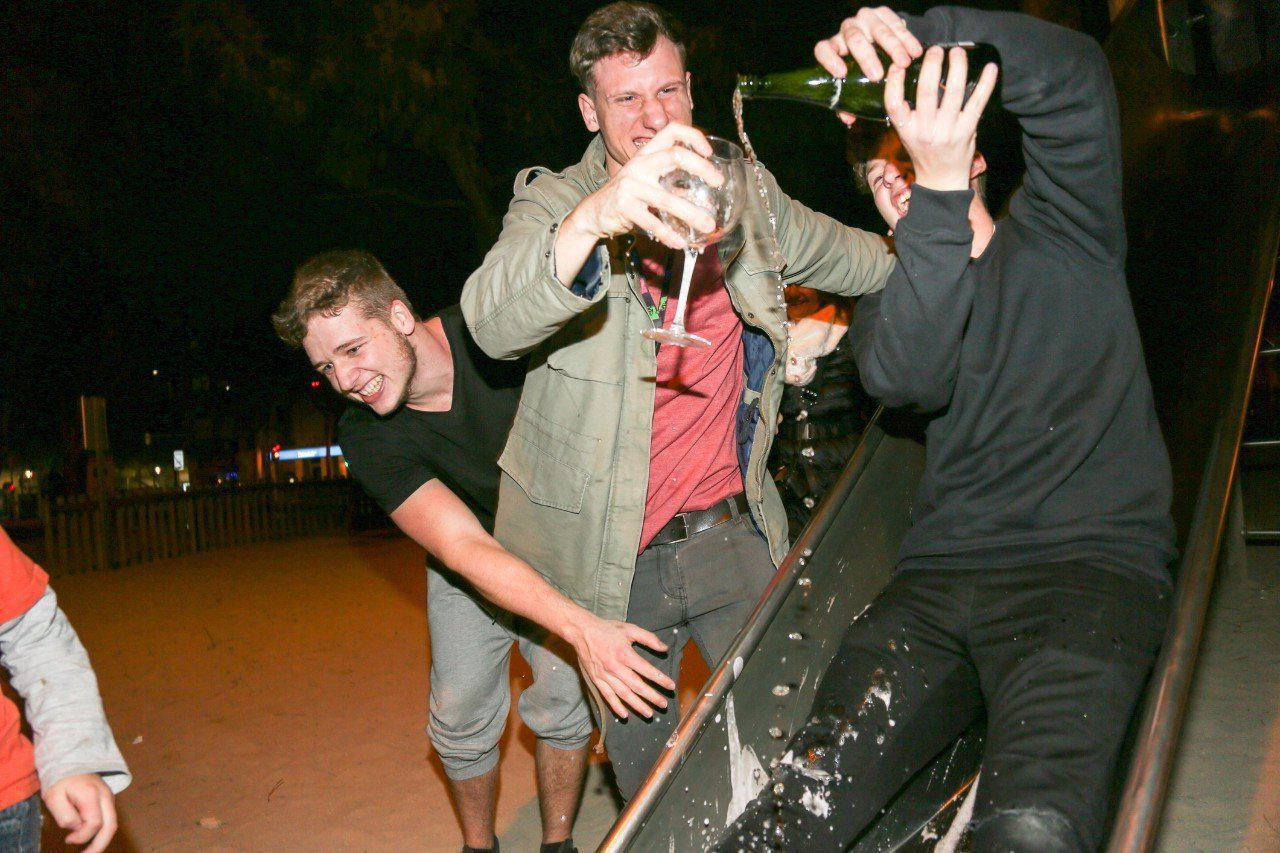Drunk: (301, 306, 414, 406), (593, 54, 694, 161)
